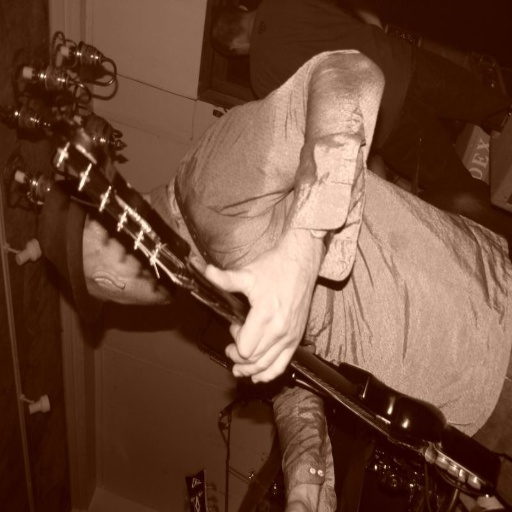hand: (228, 251, 309, 396), (282, 500, 313, 510)
